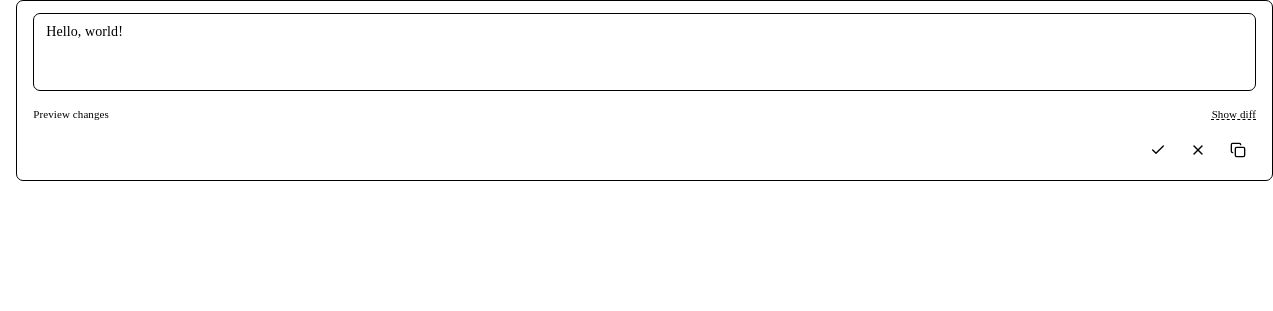
it: MessageItem › User Messages › should show diff view when show diff is clicked
This screenshot has width=1273, height=311.
Click the button "Show diff" at [1234, 115], box [1212,106,1256,124]
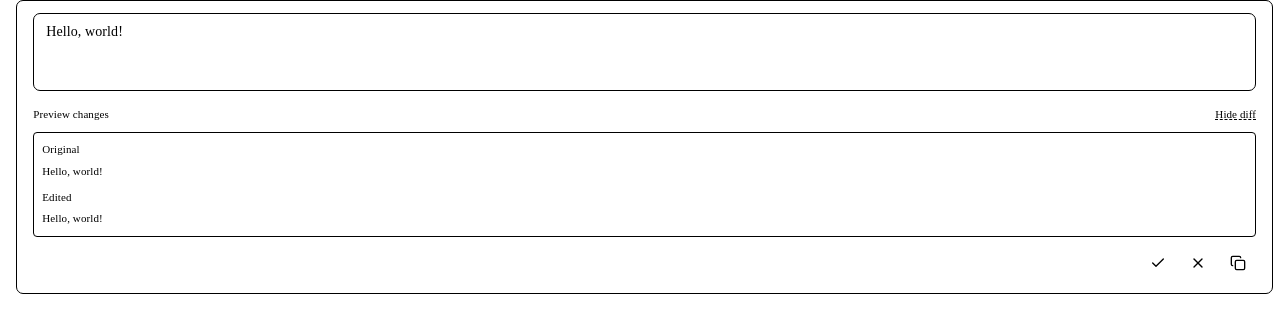
expect the text "Original" is shown: met, box [42,143,80,155]
expect the text "Edited" is shown: met, box [42,190,72,202]
expect the button "Hide diff" is shown: met, box [1215,106,1256,124]
